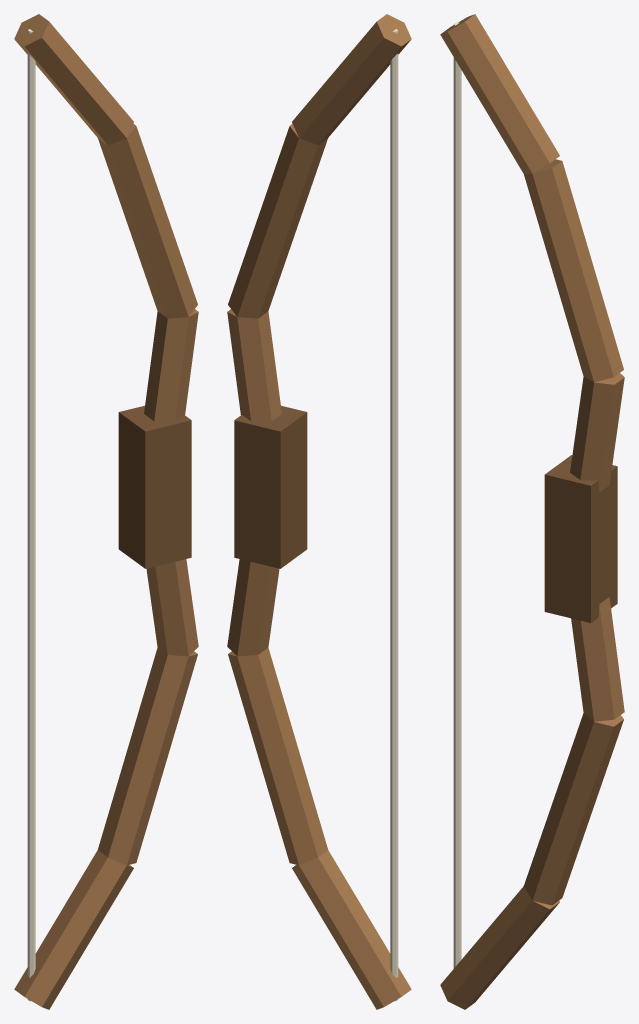
File: bow.glb
3 renders of one model, left to right at view 1: azimuth 30°, elevation 25°; view 2: azimuth 150°, elevation 25°; view 3: azimuth 330°, elevation 25°, orthographic.
Visible parts, largest first — view 1: bow; view 2: bow; view 3: bow.
Part boxes in pixels (x1,y1,x2,y2): bow: (14,14,198,1009); bow: (227,14,411,1009); bow: (440,14,624,1009).
Size of the model in its own units: 0.2258 by 1.22 by 0.06.
